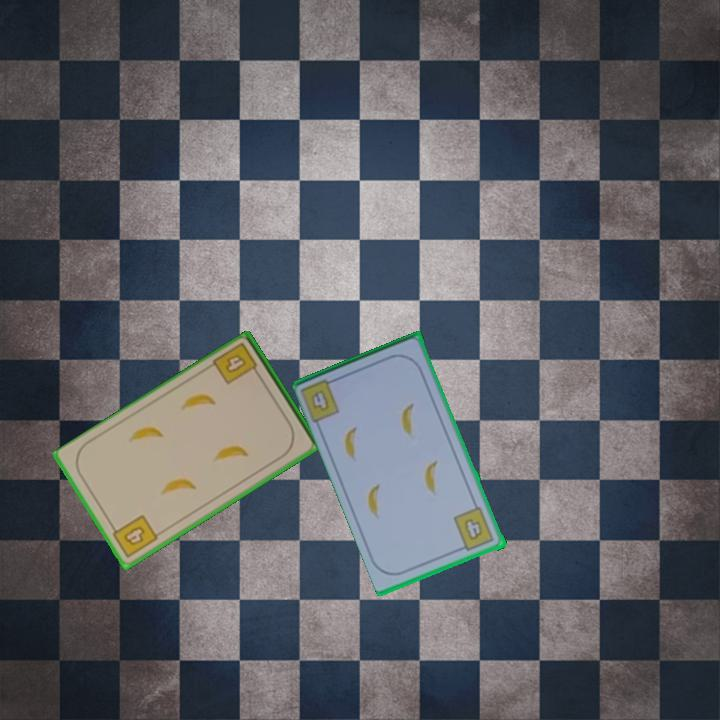4b: (107, 511, 161, 561), (210, 339, 263, 388), (450, 504, 497, 554), (299, 374, 343, 425)
